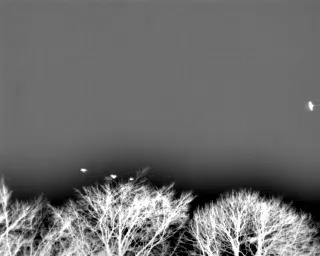BIRD: (305, 98, 317, 113)
